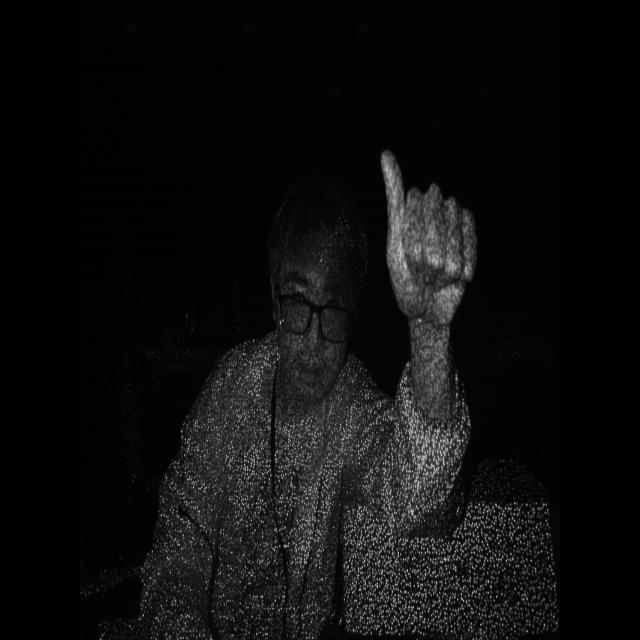A: (376, 150, 514, 362)
